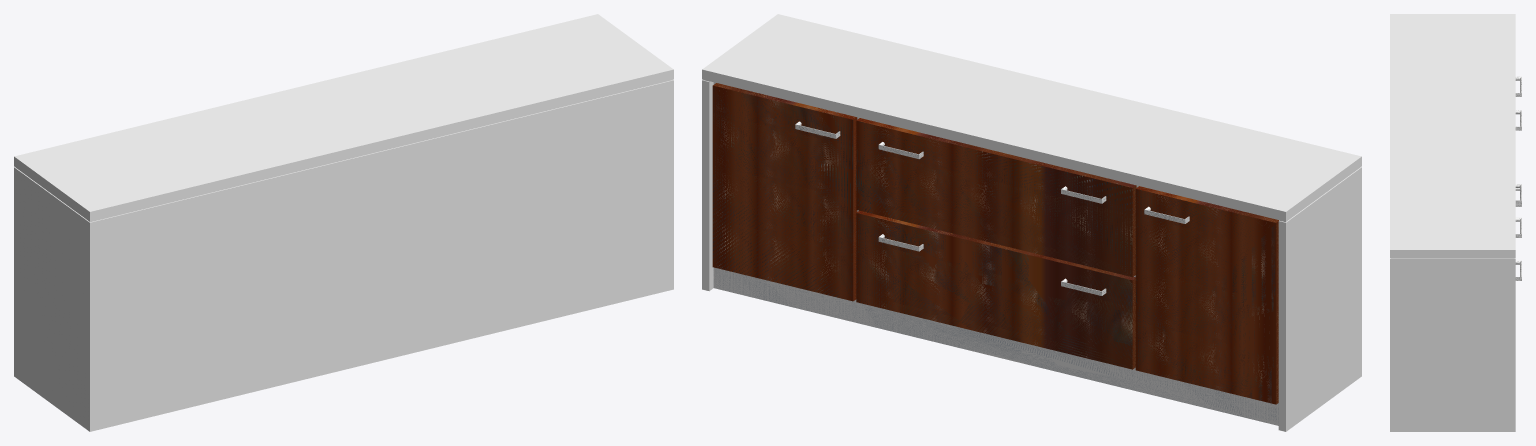
The picture shows the model from 3 angles, left to right: view 1: azimuth 30°, elevation 25°; view 2: azimuth 150°, elevation 25°; view 3: azimuth 270°, elevation 25°; orthographic projection. The views are drawn at different scales.
Parts seen in each view (by area): view 1: mesh1_mesh1-geometry; view 2: mesh1_mesh1-geometry, mesh11_mesh11-geometry, mesh8_mesh8-geometry, mesh6_mesh6-geometry; view 3: mesh1_mesh1-geometry, mesh9_mesh9-geometry.
Boxes of the visible parts, x1,y1,x2,y2 form: mesh1_mesh1-geometry: (14,14,673,431); mesh1_mesh1-geometry: (702,14,1361,431); mesh11_mesh11-geometry: (856,118,1136,369); mesh8_mesh8-geometry: (712,83,857,301); mesh6_mesh6-geometry: (1135,186,1278,404); mesh1_mesh1-geometry: (1390,14,1515,431); mesh9_mesh9-geometry: (1515,184,1521,280).
Size of the model in its own units: 0.9185 by 0.3306 by 0.217.
